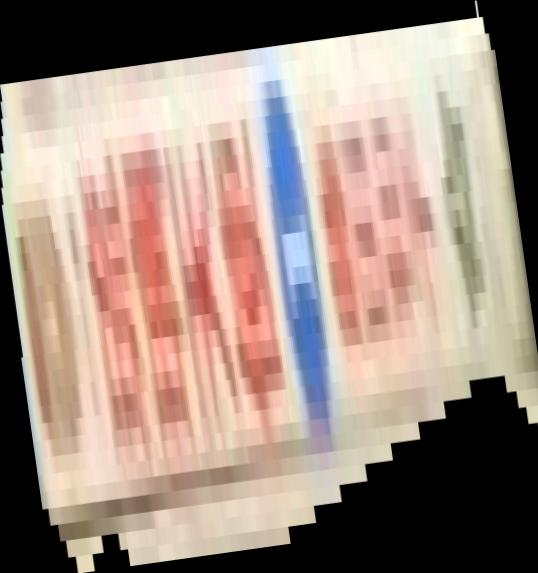flat: (1, 1, 538, 573)
